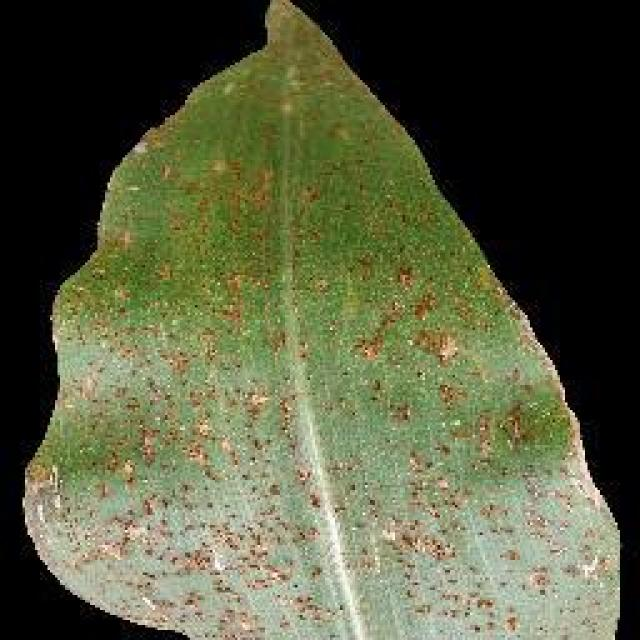Corn Common Rust: (125, 128, 562, 598)
